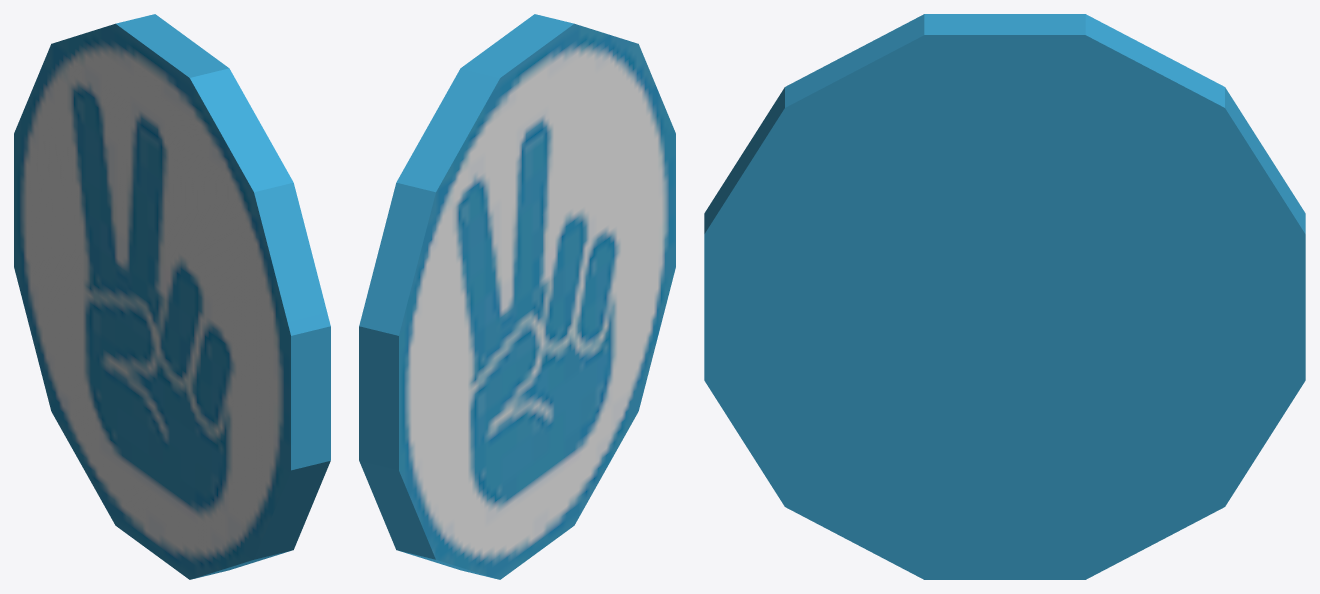
The model's file is BlueScissorsIcon.fbx.
The picture shows the model from 3 angles, left to right: view 1: azimuth 30°, elevation 25°; view 2: azimuth 150°, elevation 25°; view 3: azimuth 270°, elevation 25°; orthographic projection. The views are drawn at different scales.
Visible parts, largest first — view 1: Cylinder; view 2: Cylinder; view 3: Cylinder.
Part boxes in pixels (x1,y1,x2,y2): Cylinder: (14,14,330,579); Cylinder: (359,14,675,579); Cylinder: (704,14,1305,579).
Size of the model in its own units: 48.3 by 48.3 by 4.
